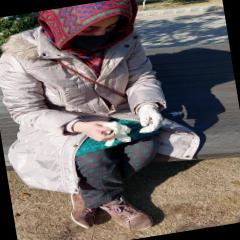gloved: (128, 104, 163, 136)
not-gloved: (70, 116, 116, 146)
